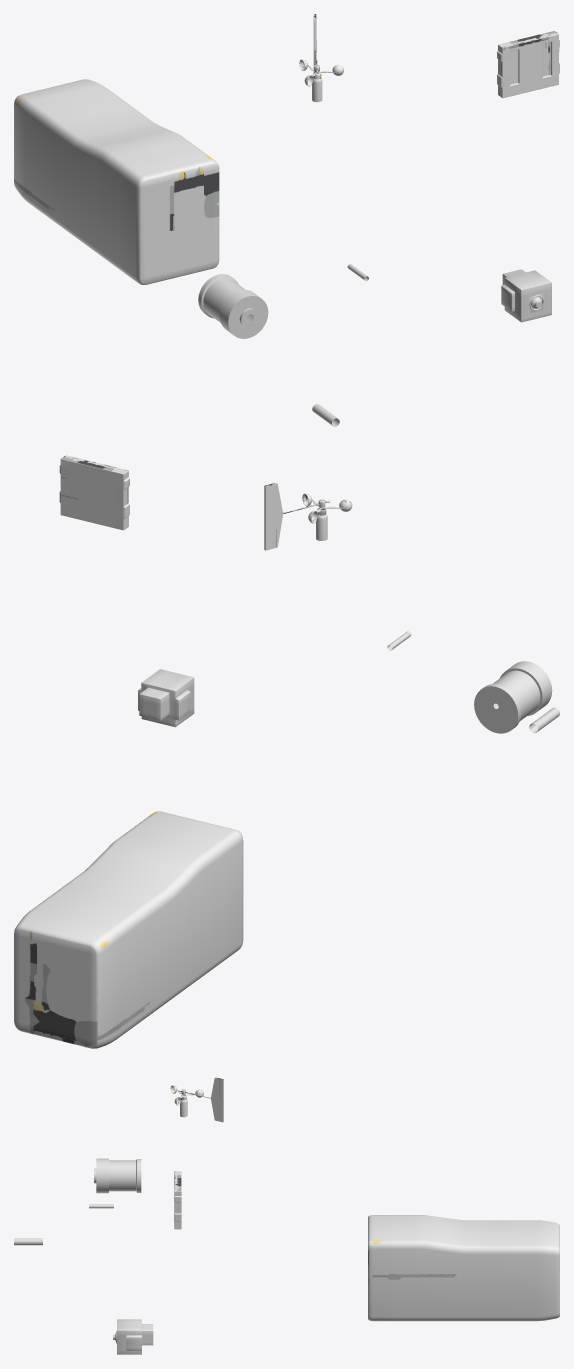
The model's file is remaining.fbx.
3 renders of one model, top to bottom at view 1: azimuth 30°, elevation 25°; view 2: azimuth 150°, elevation 25°; view 3: azimuth 270°, elevation 25°, orthographic. The views are drawn at different scales.
Visible parts, largest first — view 1: Nacelle, Controllor, Gear Box, Generator, anemometer; view 2: Nacelle, Controllor, Gear Box, Generator, anemometer; view 3: Nacelle, Gear Box, Generator, anemometer, Controllor.
Boxes of the visible parts, <box> form: Nacelle: <box>14,79,219,284</box>; Controllor: <box>497,31,559,98</box>; Gear Box: <box>198,274,268,338</box>; Generator: <box>501,269,551,322</box>; anemometer: <box>299,14,343,102</box>; Nacelle: <box>14,811,243,1048</box>; Controllor: <box>59,455,129,530</box>; Gear Box: <box>474,661,552,733</box>; Generator: <box>138,669,194,727</box>; anemometer: <box>264,482,352,550</box>; Nacelle: <box>368,1215,559,1321</box>; Gear Box: <box>94,1158,141,1193</box>; Generator: <box>113,1319,153,1354</box>; anemometer: <box>170,1077,223,1122</box>; Controllor: <box>174,1171,181,1229</box>.
Size of the model in its own units: 158 by 128 by 260.
